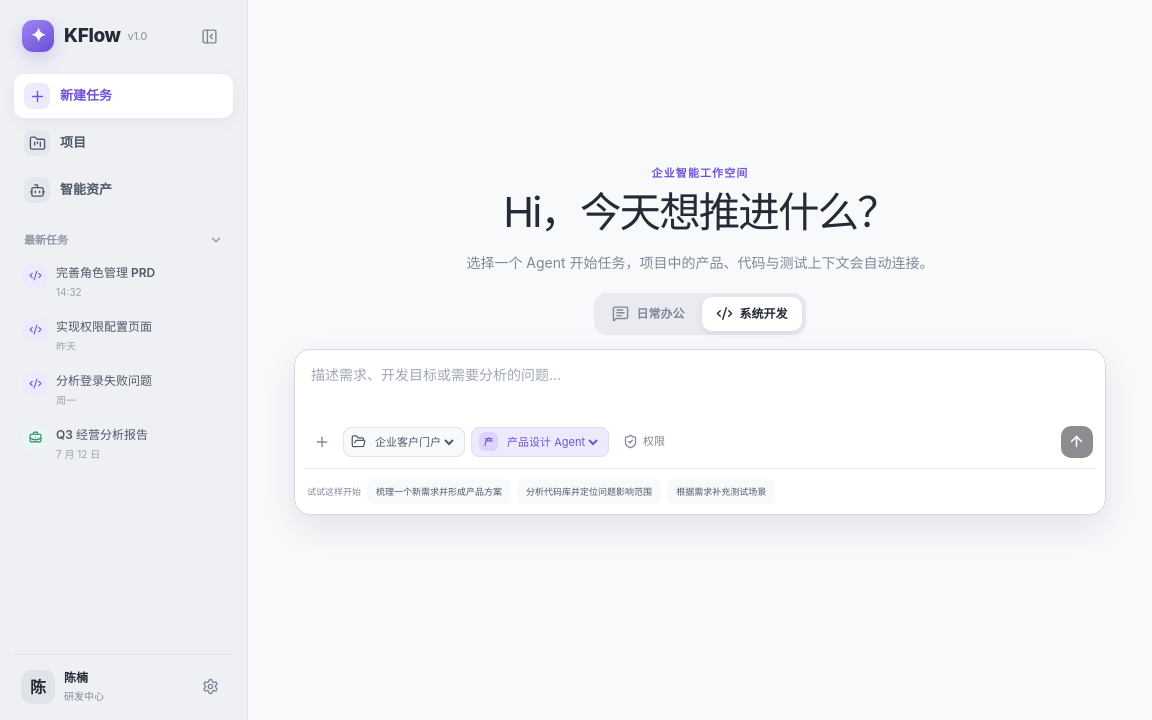
enterprise AI client demo › sends a task with the selected Agent
Click the button "新建任务" at (124, 96), box [14,74,233,118]
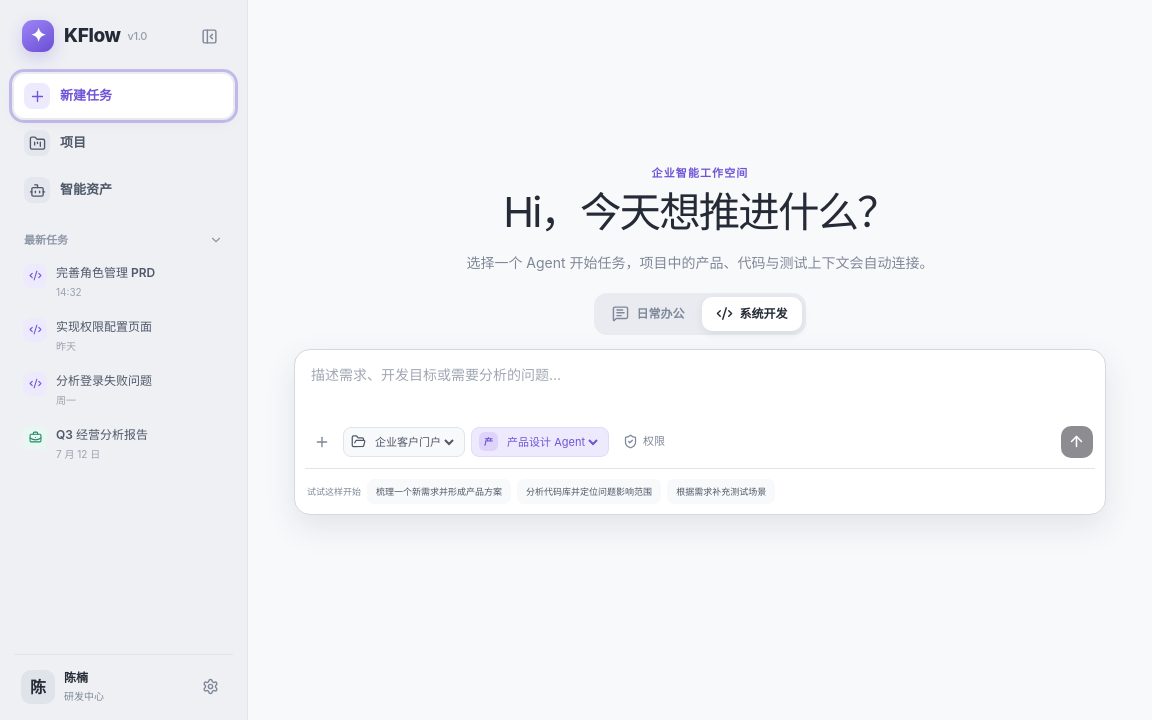
Select "开发 Agent" in the dropdown named "选择 Agent" at (552, 442), box [503,434,601,450]
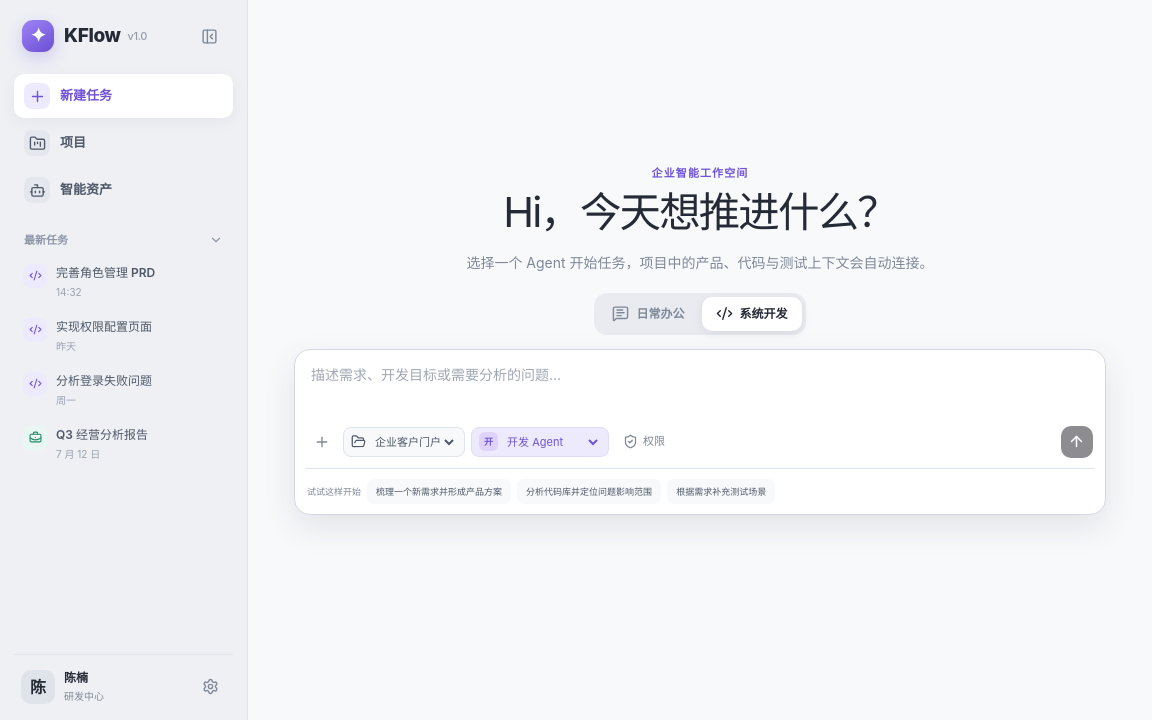
Type "实现权限配置页面" into the text box named "任务输入" at (700, 394), box [307,362,1093,426]
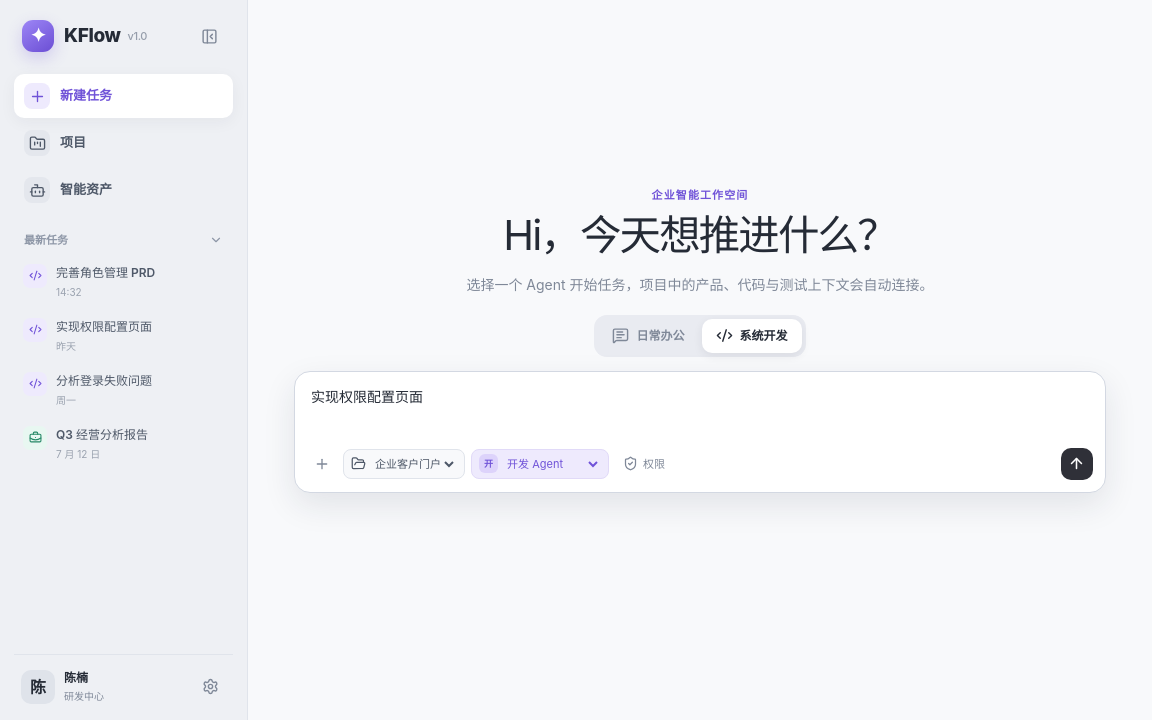
Click the button named "发送" at (1077, 464), box [1061,448,1093,480]
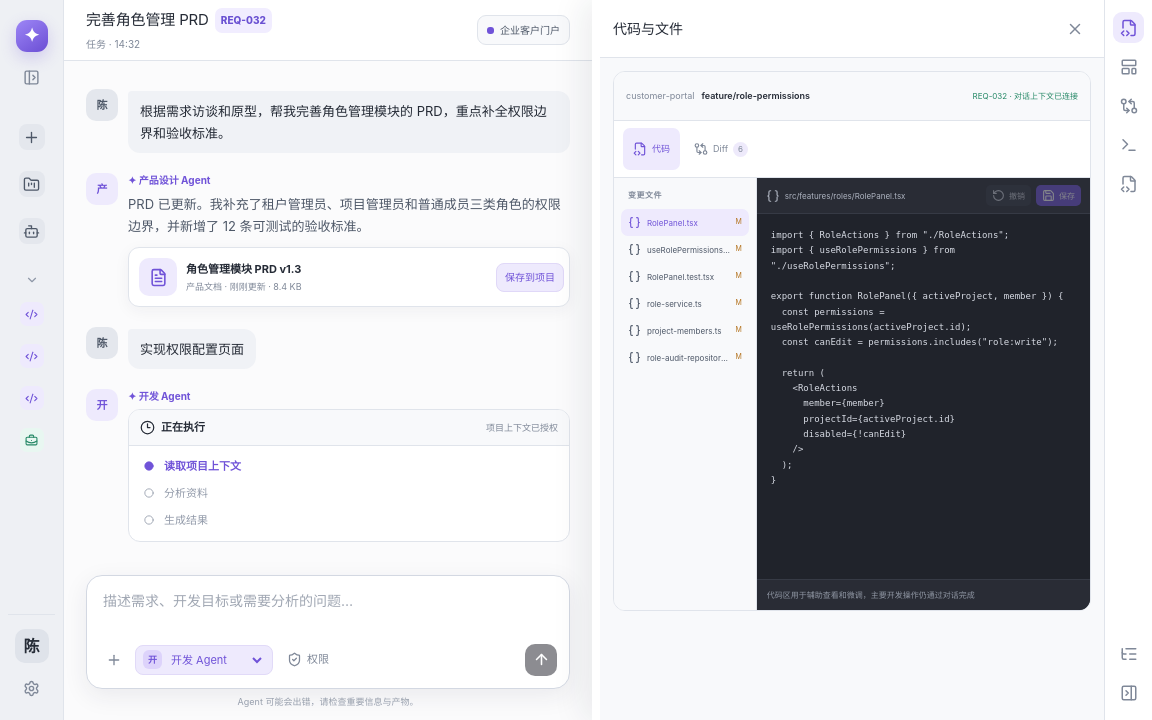
expect the text "读取项目上下文" is shown: met, box [144,459,241,473]
